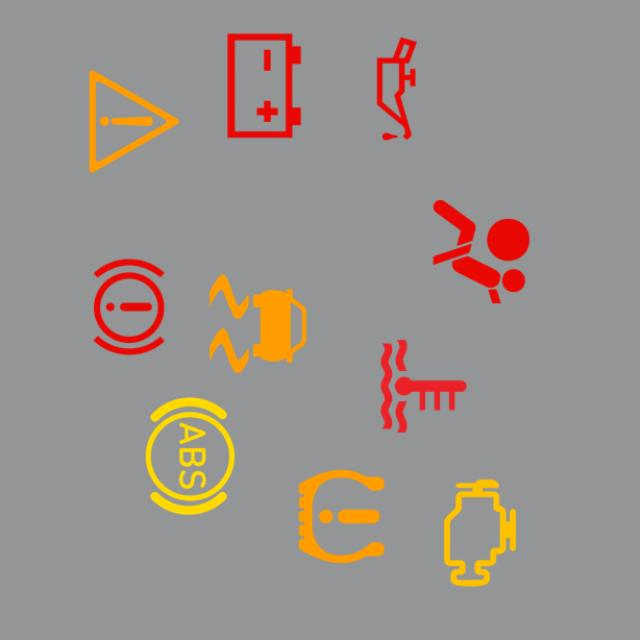Anti Lock Braking System: (126, 392, 254, 520)
Braking System Issue: (64, 243, 192, 371)
Charging System Issue: (200, 22, 328, 150)
Check Engine: (416, 469, 544, 597)
Electronic Stability Problem -ESP-: (194, 260, 322, 388)
Engine Overheating Warning Light: (360, 322, 488, 450)
Low Engine Oil Warning Light: (332, 25, 460, 153)
Low Tire Pressure Warning Light: (278, 452, 406, 580)
Master warning light: (70, 58, 198, 186)
SRS-Airbag: (417, 188, 545, 316)
